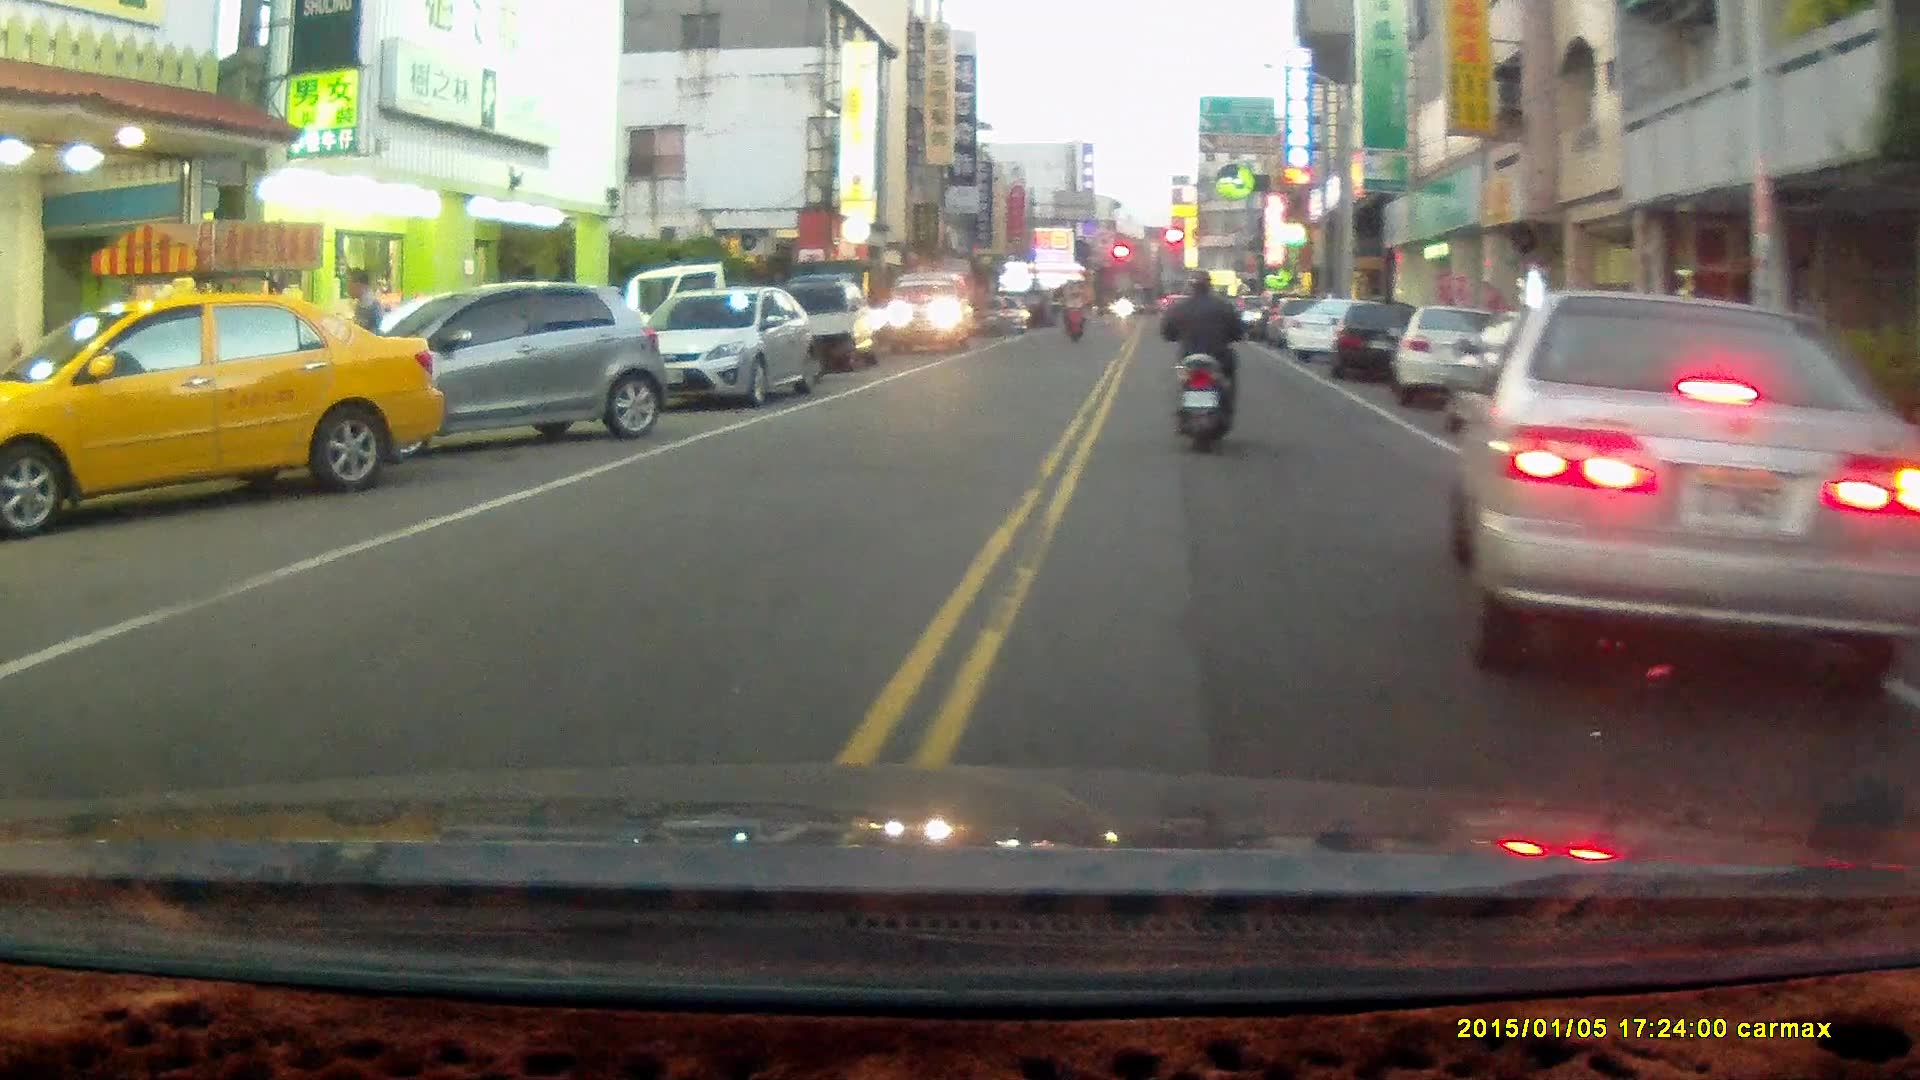pedestrian: (337, 270, 386, 439)
rider: (1155, 268, 1255, 458), (1059, 284, 1088, 344)
vehicle: (1458, 292, 1920, 687), (1, 292, 442, 543), (334, 280, 672, 447), (621, 288, 818, 410), (770, 278, 894, 375), (1398, 302, 1496, 408), (884, 277, 972, 349)
